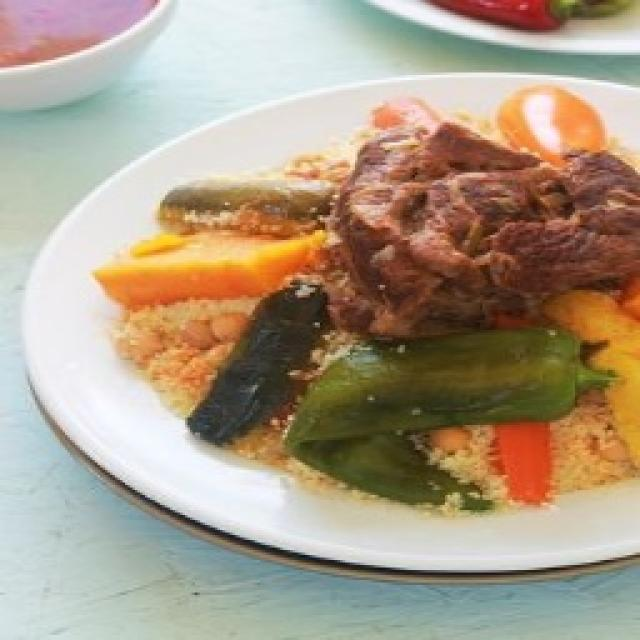Couscous: (58, 78, 640, 578)
